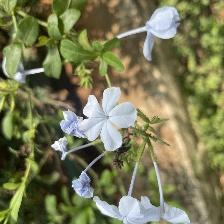chitrak: (75, 84, 139, 151), (137, 3, 179, 57), (92, 194, 152, 224)
